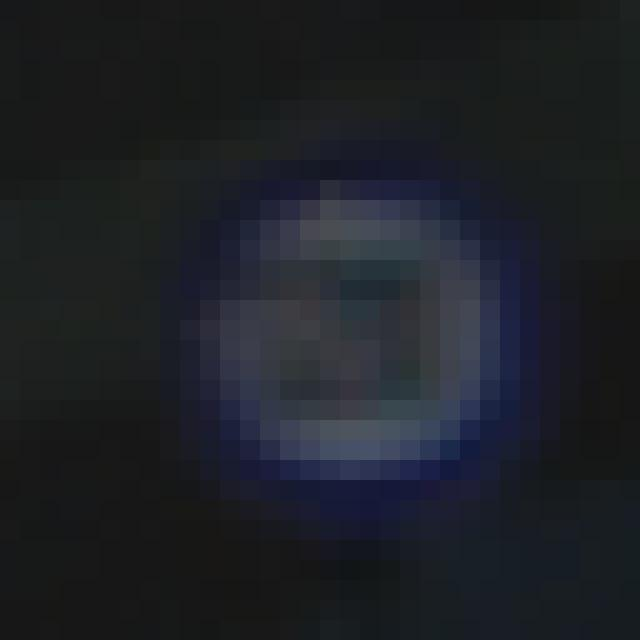SPEED LIMIT 120: (174, 150, 538, 506)
